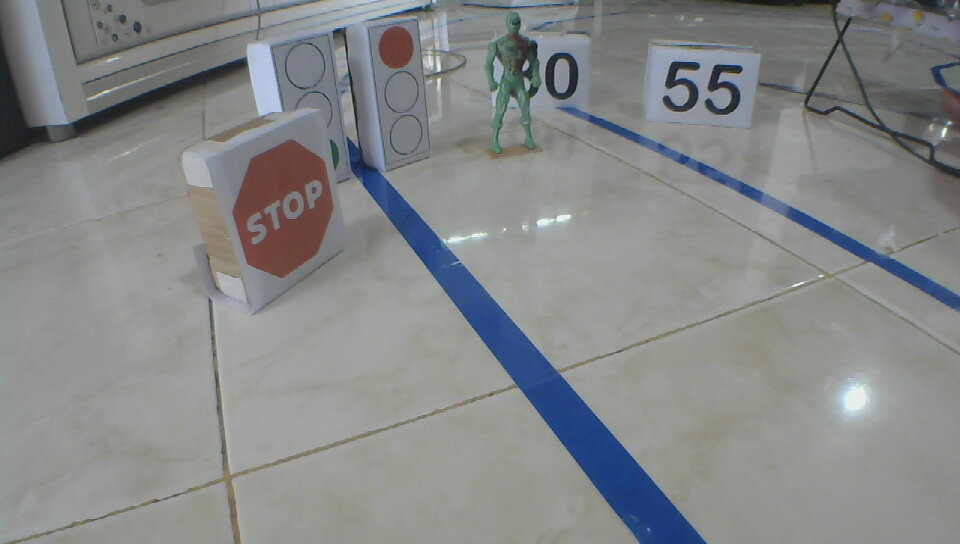Person: (486, 12, 538, 153)
Red Light: (380, 25, 424, 160)
Speed 55: (659, 60, 745, 117)
Stop: (233, 139, 333, 280)
